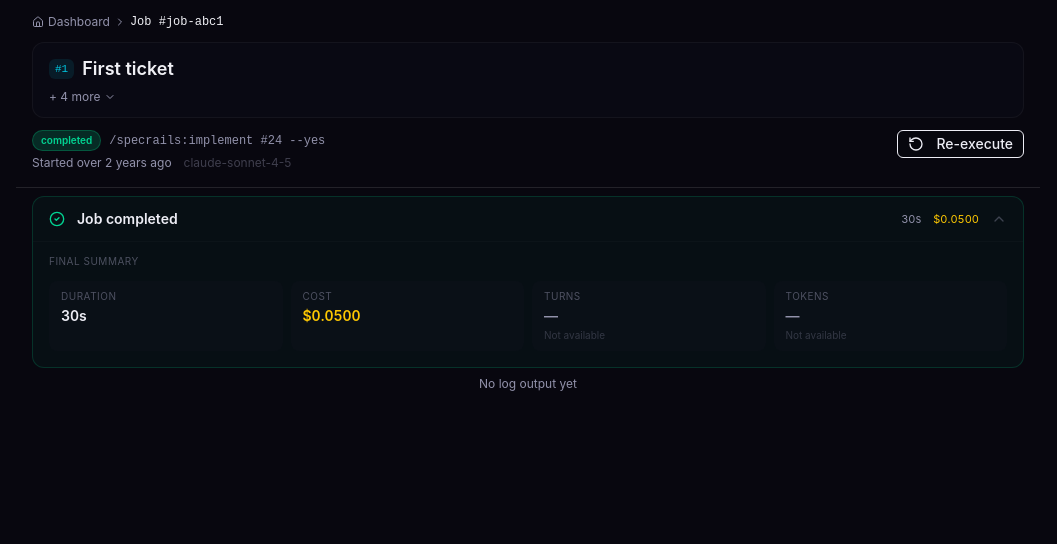
it: JobDetailPage › Ticket identity card › renders compact mode with "+ N more" when 4+ tickets, expand reveals all
The width and height of the screenshot is (1057, 544).
Expected: the text "First ticket" is shown, [82,55,174,83]
Expected: the text "Second ticket" is not shown
Click the button "+ 4 more" at coordinates (83, 97), box [49,89,116,105]
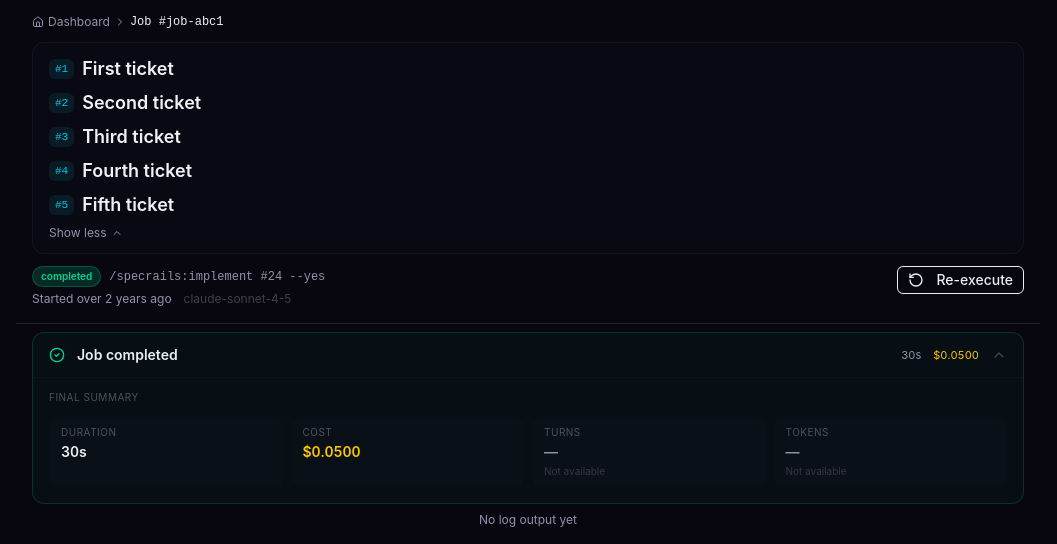
Now the text "Second ticket" is shown, box [82,89,201,117]
Now the text "Fifth ticket" is shown, box [82,191,174,219]
